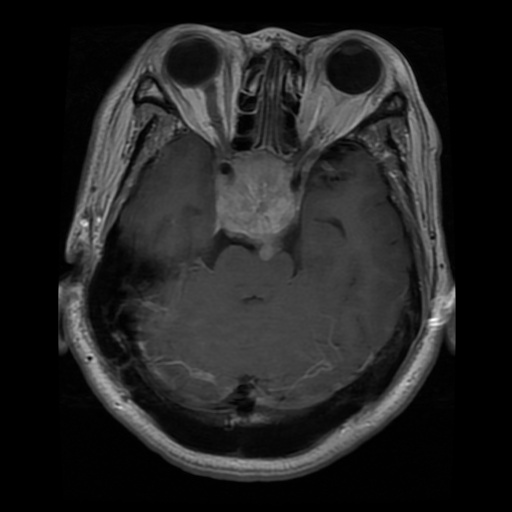pituitary: (219, 152, 296, 241)
